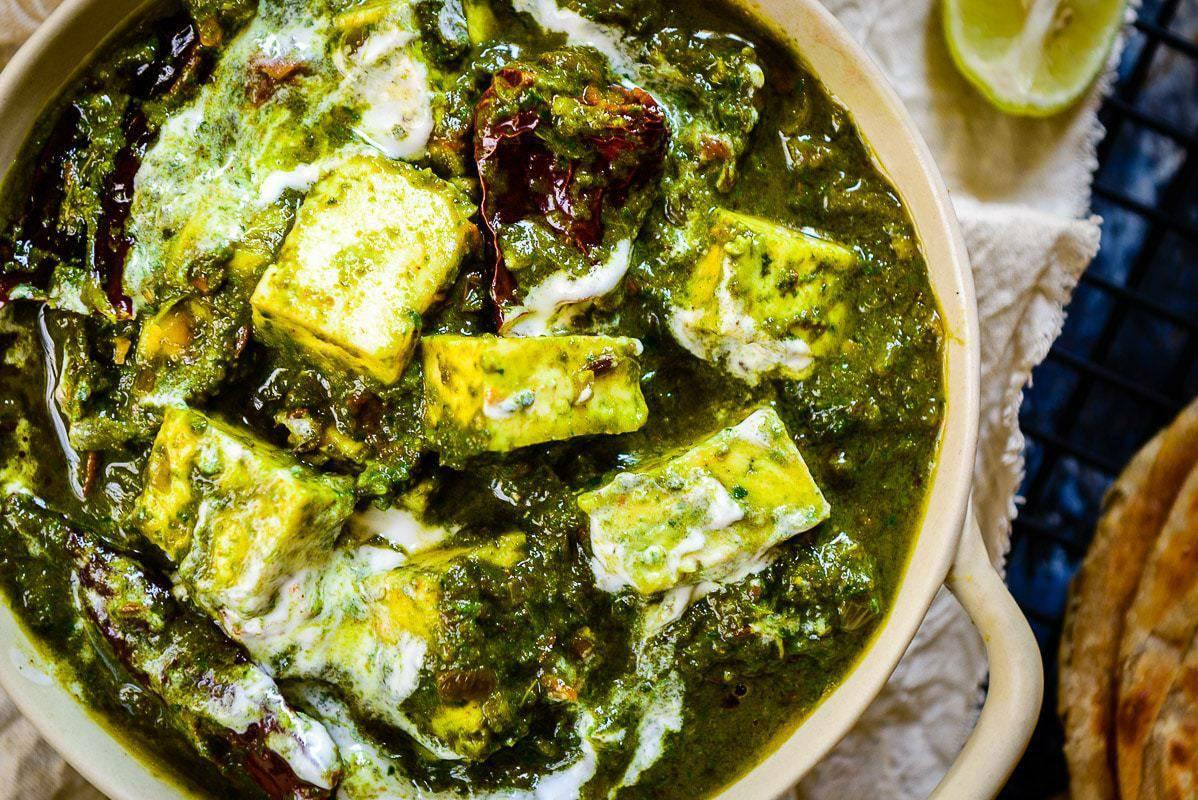PalakPaneer: (0, 0, 946, 800)
